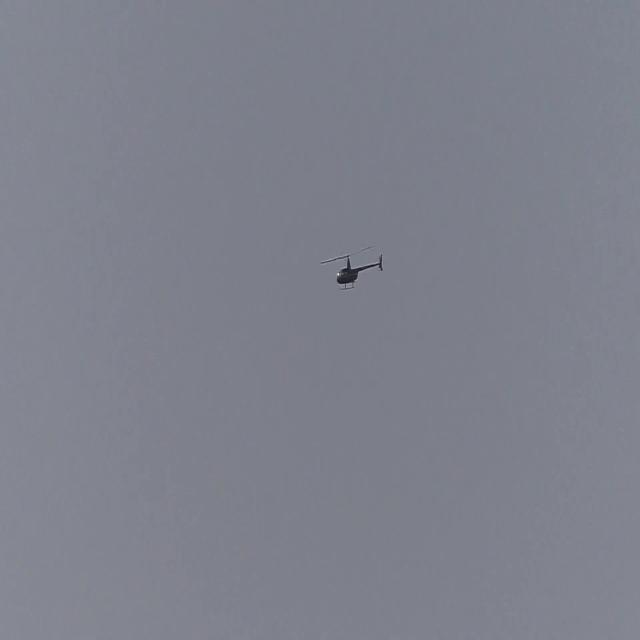CIV_HELO: (335, 253, 384, 291)
